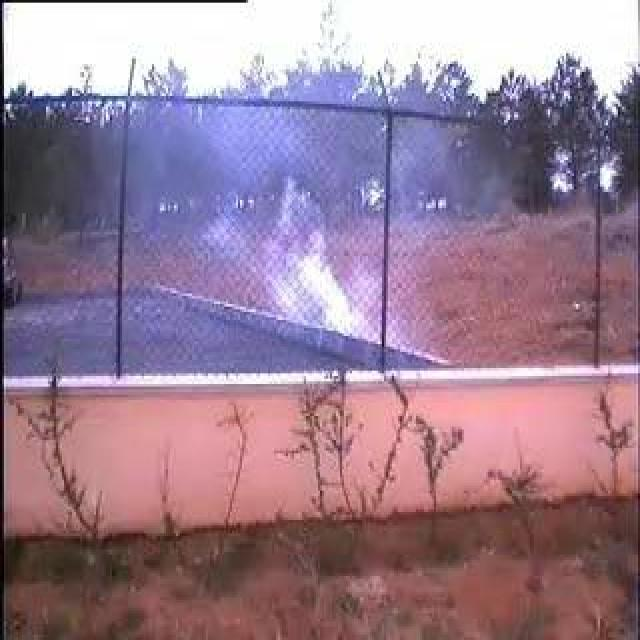Smoke: (211, 125, 411, 334)
